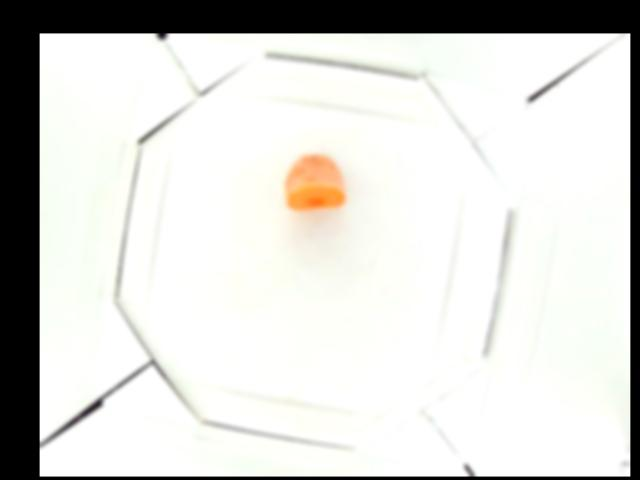Carrot: (283, 154, 344, 208)
